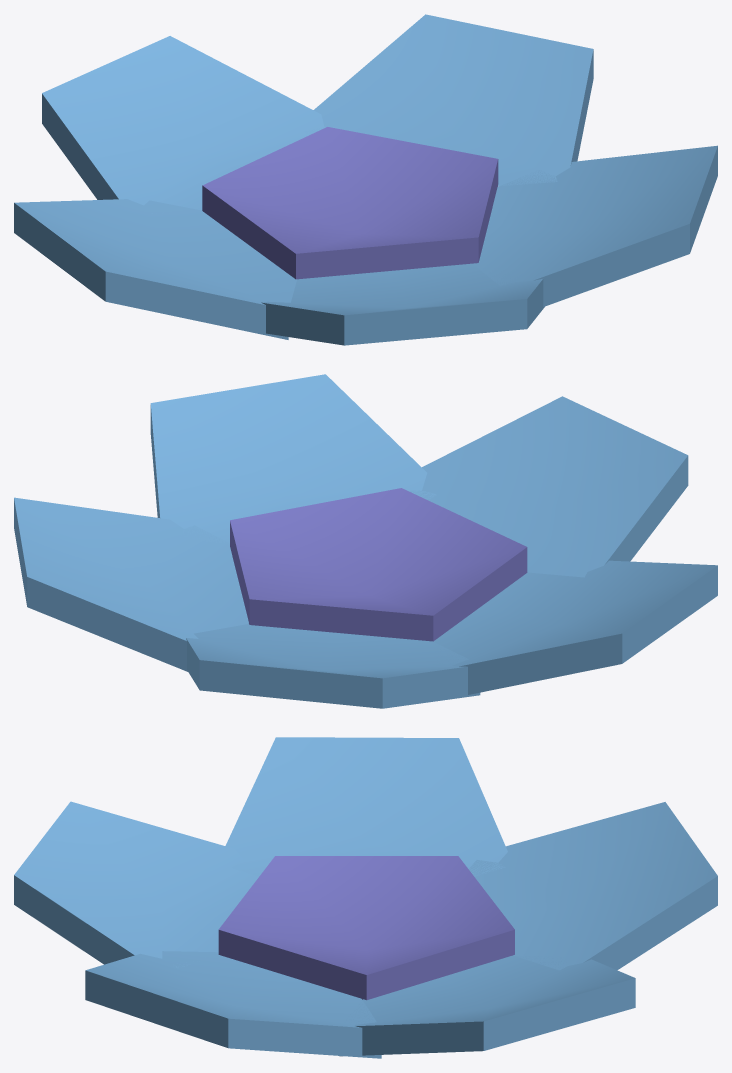
File: fbFlowers1.fbx
3 renders of one model, top to bottom at view 1: azimuth 30°, elevation 25°; view 2: azimuth 150°, elevation 25°; view 3: azimuth 270°, elevation 25°, orthographic. The views are drawn at different scales.
Visible parts, largest first — view 1: fbFlowers1; view 2: fbFlowers1; view 3: fbFlowers1.
Boxes of the visible parts, box(x1,y1,x2,y2) form: fbFlowers1: box(14, 14, 717, 345); fbFlowers1: box(14, 374, 717, 708); fbFlowers1: box(14, 737, 717, 1058).
Bounding box in the file's own units: 59.82 × 8.11 × 62.61.
